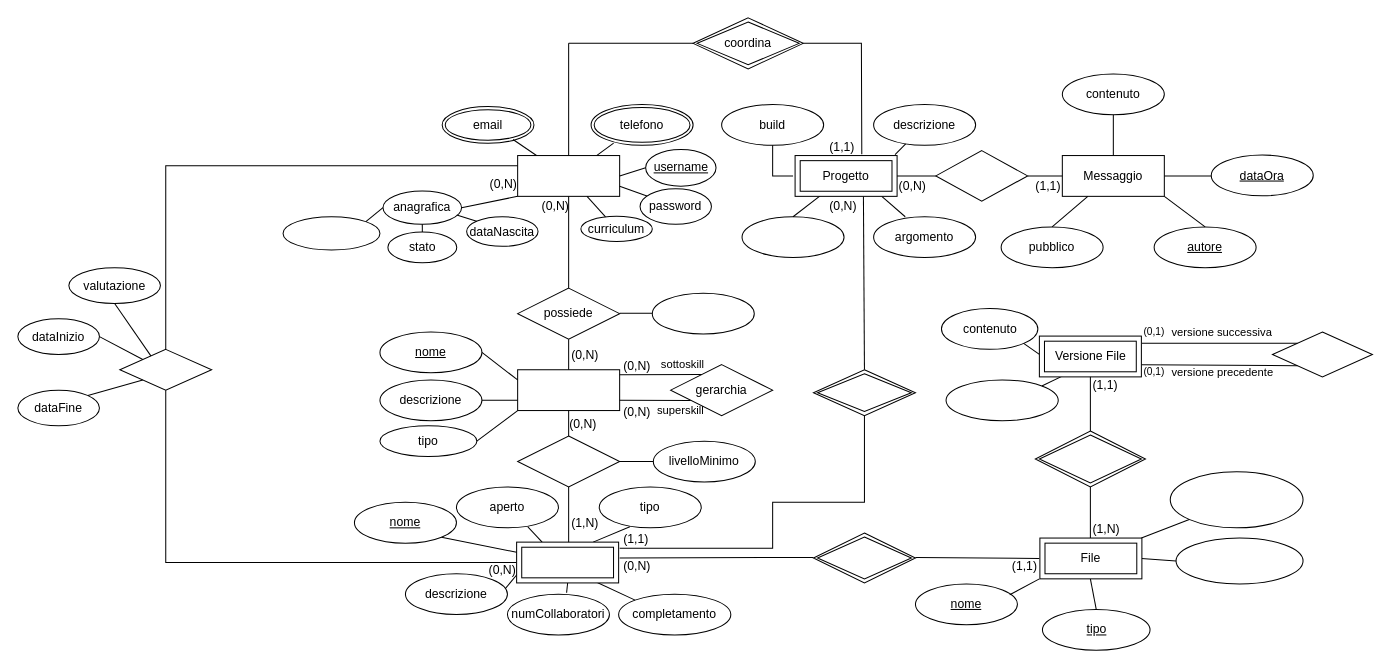
Image size: 1390x668. Some labels were removed from this diagram. Each missing label, with the centre of its shape:
aggiorna: point 1321,354
associato: point 863,557
composto: point 863,392
dataOraCreazione: point 1001,400
dataOraUltimaModifica: point 1236,499
livello: point 702,313
nomeCognome: point 331,233
nomeProgetto: point 792,237
Partecipa: point 165,369
postato: point 981,175
richiede: point 568,461
Skill: point 568,390
Sviluppatore: point 568,175
Task: point 567,562
utenteUltimaModifica: point 1239,560
versione: point 1089,458
